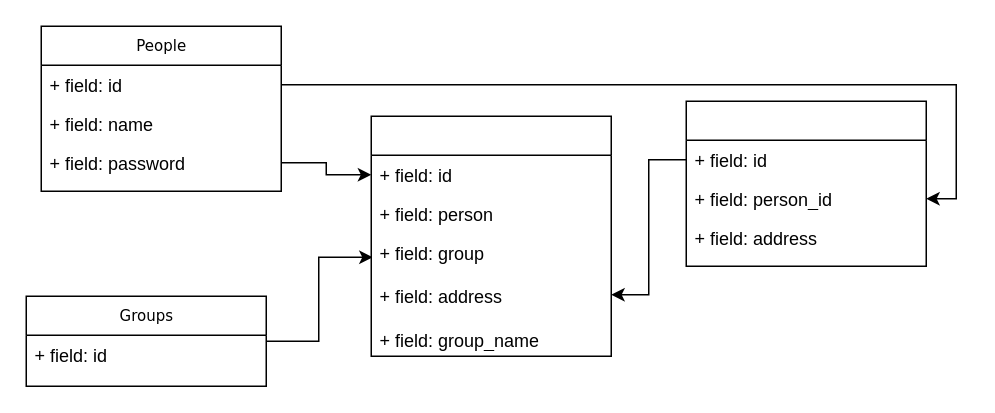
This 995x413 diagram has some shape labels left out. Each missing label, with the box of its shape:
Addresses: (685, 100, 926, 266)
Membership: (370, 115, 611, 356)
